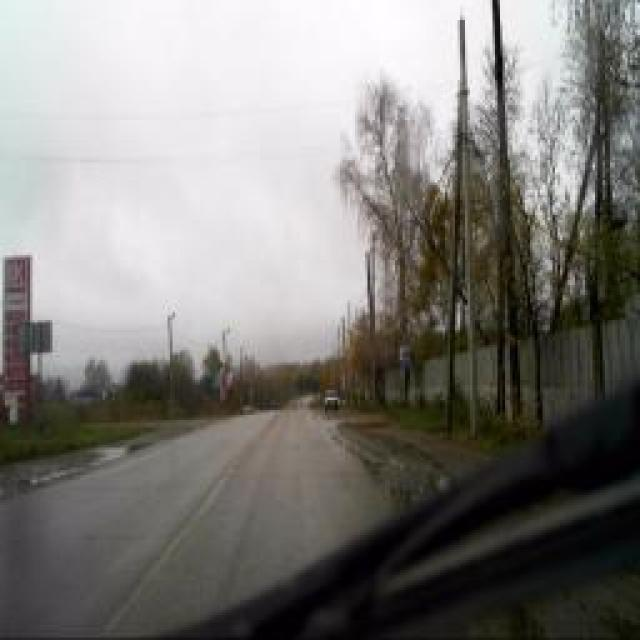sign: (398, 341, 410, 369)
